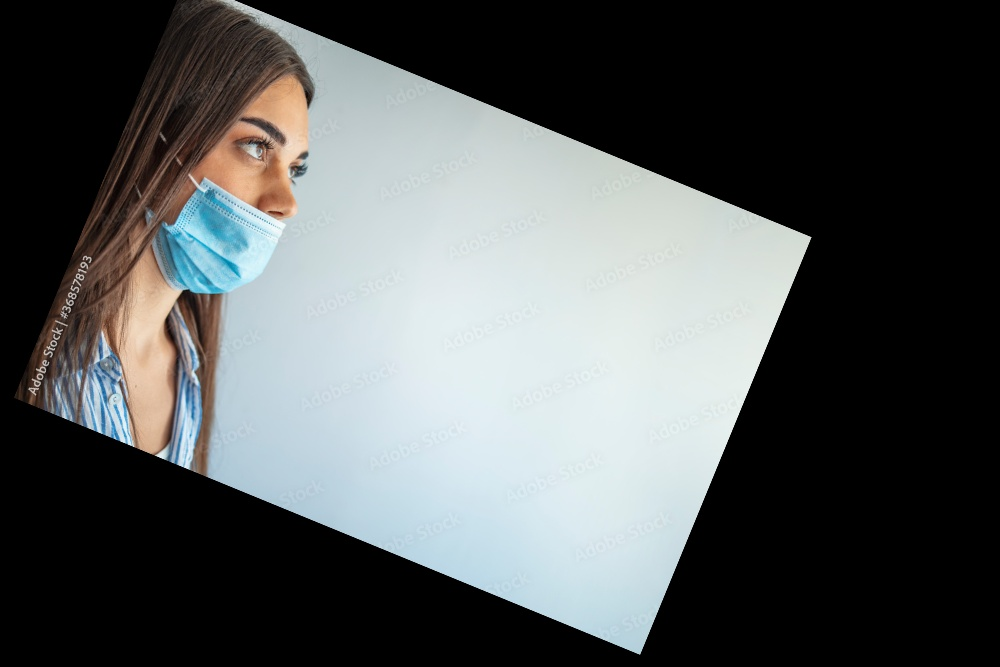mask_weared_incorrect: (131, 27, 314, 324)
